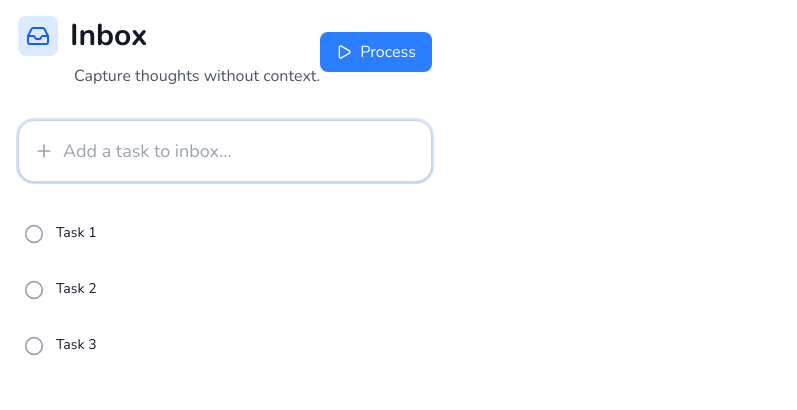
Test: InboxView Processing Mode › handles keyboard shortcut Escape to exit
Click the button "Process".
click(376, 52)  # box [320,32,432,72]
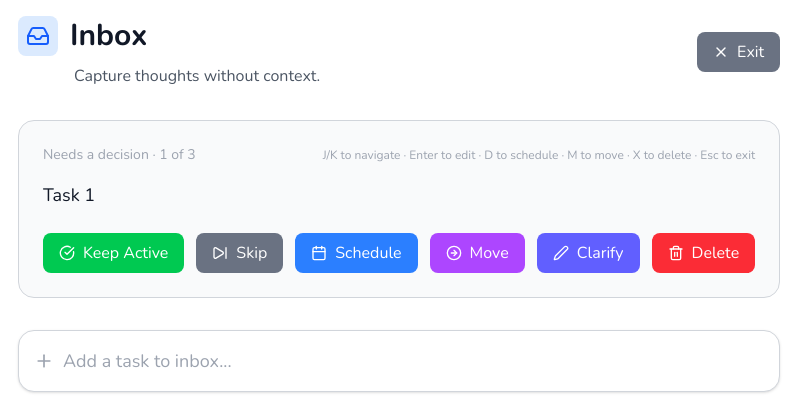
Now the text "Needs a decision · 1 of 3" is shown, box [43,145,196,165]
Press Escape
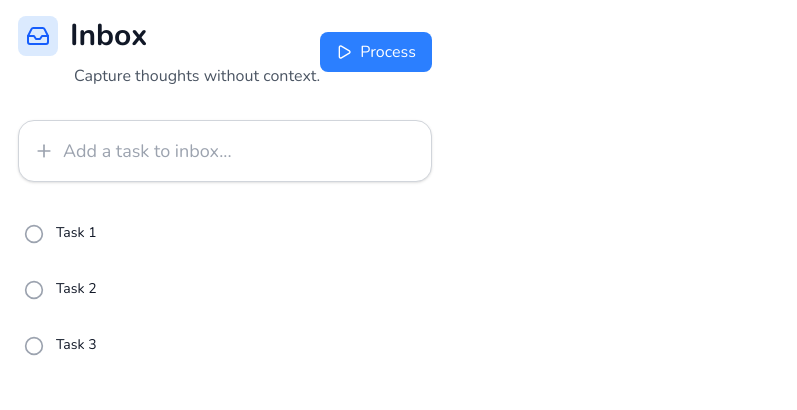
Now the text "Needs a decision" is gone
